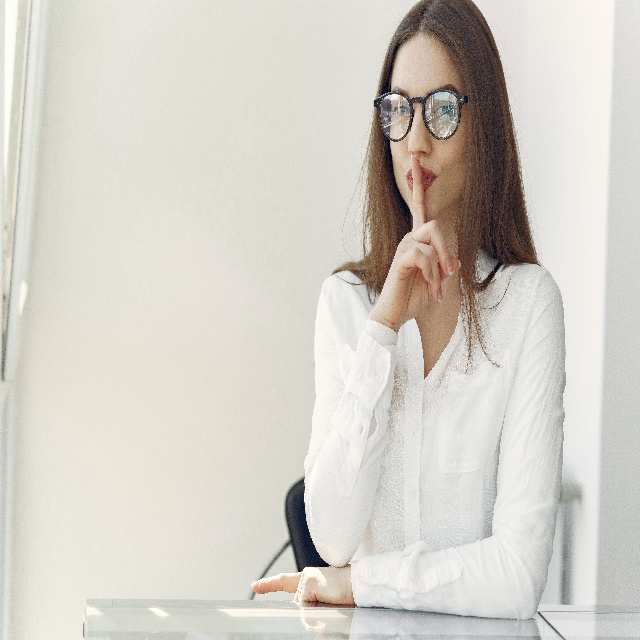Gafas: (374, 87, 468, 142)
Sin_guantes: (377, 155, 461, 326), (250, 564, 355, 607)
